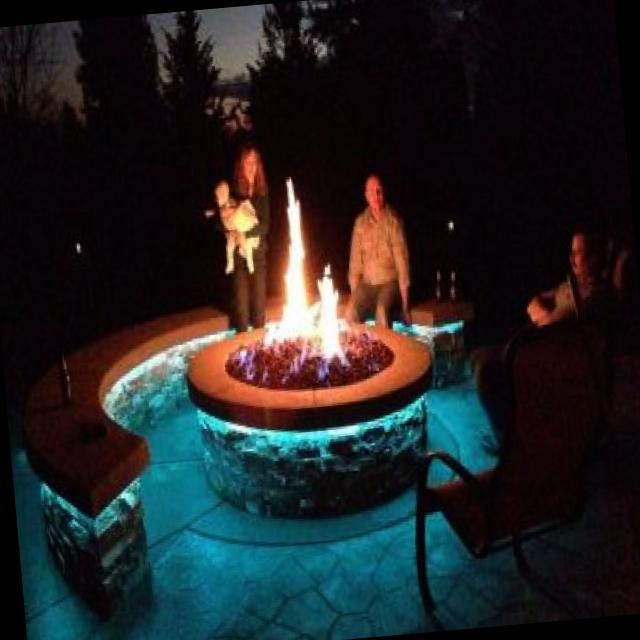Fire_Save: (247, 168, 349, 372)
